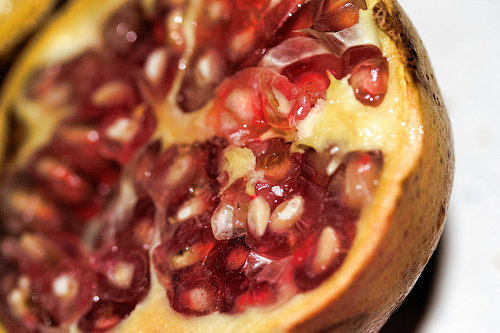pomogranate: (0, 2, 456, 332)
